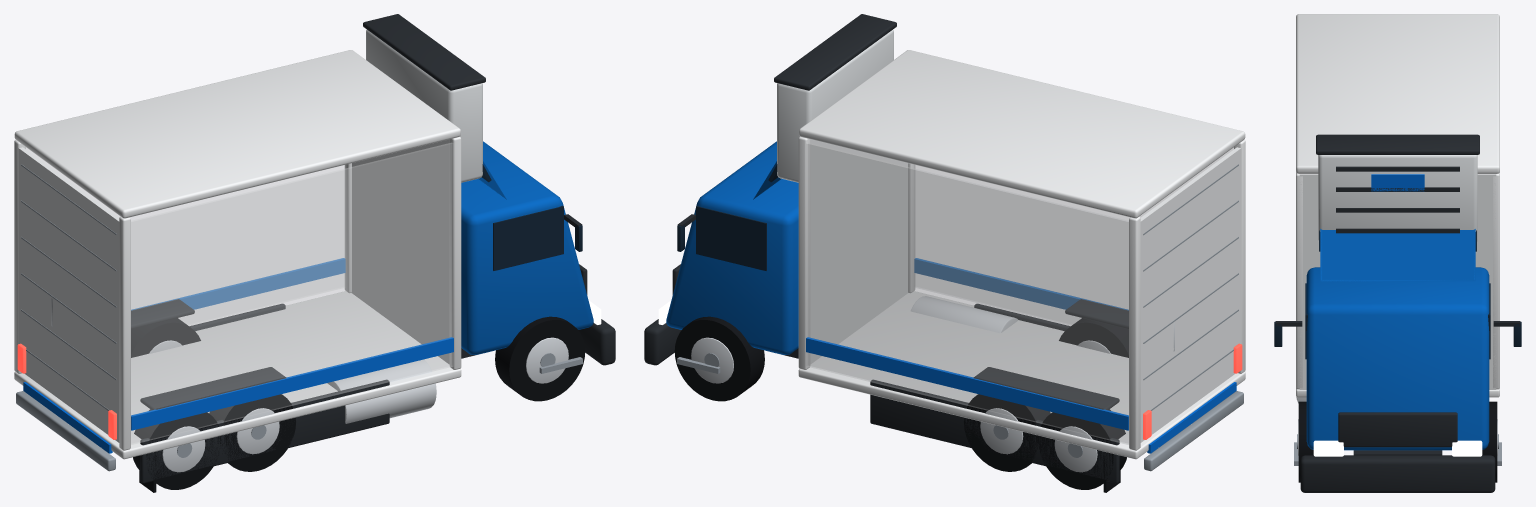
Rendered from reefer-truck.glb.
3 views of the same model, side by side, from view 1: azimuth 30°, elevation 25°; view 2: azimuth 150°, elevation 25°; view 3: azimuth 270°, elevation 25° (orthographic). The views are drawn at different scales.
Visible parts, largest first — view 1: wallR, boxRoof, wallL, doorRear, boxFloor, wallF, cab, reeferUnit, stripeR, skirtR, tire.001, reeferCap (+19 smaller); view 2: wallL, boxRoof, wallR, doorRear, boxFloor, wallF, cab, skirtL, reeferUnit, stripeL, tire, reeferCap (+18 smaller); view 3: cab, boxRoof, reeferUnit, roofFairing, bumper, grille, wallF, reeferCap, pillar.002, pillar.003, reeferBadge, vent (+8 smaller).
Part boxes in pixels (left/top/right/bottom): wallR: left=131, top=143, right=453, bottom=444; boxRoof: left=14, top=50, right=460, bottom=218; wallL: left=26, top=147, right=344, bottom=325; doorRear: left=18, top=147, right=119, bottom=442; boxFloor: left=14, top=291, right=461, bottom=459; wallF: left=352, top=139, right=449, bottom=364; cab: left=461, top=141, right=593, bottom=354; reeferUnit: left=366, top=29, right=482, bottom=182; stripeR: left=131, top=337, right=453, bottom=430; skirtR: left=140, top=379, right=389, bottom=483; tire.001: left=495, top=316, right=585, bottom=401; reeferCap: left=363, top=14, right=485, bottom=90; wallL: left=806, top=143, right=1128, bottom=444; boxRoof: left=799, top=50, right=1245, bottom=218; wallR: left=915, top=147, right=1233, bottom=325; doorRear: left=1140, top=147, right=1241, bottom=442; boxFloor: left=798, top=291, right=1245, bottom=459; wallF: left=810, top=139, right=907, bottom=364; cab: left=666, top=141, right=798, bottom=354; skirtL: left=870, top=379, right=1119, bottom=483; reeferUnit: left=777, top=29, right=893, bottom=182; stripeL: left=806, top=337, right=1128, bottom=430; tire: left=674, top=316, right=764, bottom=401; reeferCap: left=774, top=14, right=896, bottom=90; cab: left=1306, top=267, right=1489, bottom=450; boxRoof: left=1296, top=14, right=1499, bottom=173; reeferUnit: left=1318, top=155, right=1477, bottom=240; roofFairing: left=1320, top=229, right=1475, bottom=281; bumper: left=1300, top=455, right=1495, bottom=492; grille: left=1338, top=412, right=1457, bottom=447; wallF: left=1299, top=174, right=1496, bottom=389; reeferCap: left=1316, top=134, right=1479, bottom=154; pillar.002: left=1493, top=172, right=1499, bottom=389; pillar.003: left=1296, top=172, right=1302, bottom=389; reeferBadge: left=1371, top=174, right=1424, bottom=191; vent: left=1336, top=228, right=1459, bottom=233.
Size of the model in its own units: 6.09 by 3.8 by 2.79.
